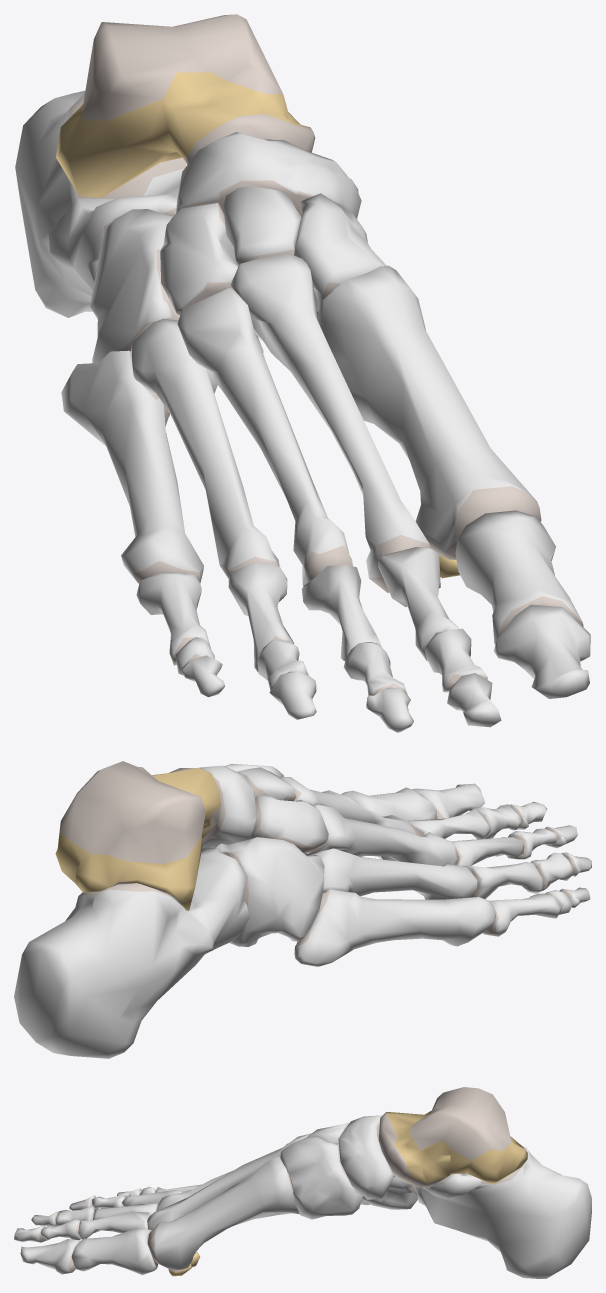
Rendered from foot_R.fbx.
The picture shows the model from 3 angles, top to bottom: view 1: azimuth 30°, elevation 25°; view 2: azimuth 150°, elevation 25°; view 3: azimuth 270°, elevation 25°; orthographic projection. The views are drawn at different scales.
Visible parts, largest first — view 1: Intermediate cuneiform bone.r.001; view 2: Intermediate cuneiform bone.r.001; view 3: Intermediate cuneiform bone.r.001.
Boxes of the visible parts, x1,y1,x2,y2 form: Intermediate cuneiform bone.r.001: (15, 14, 590, 732); Intermediate cuneiform bone.r.001: (14, 761, 591, 1058); Intermediate cuneiform bone.r.001: (14, 1087, 591, 1278).
Size of the model in its own units: 9.36 by 7.62 by 22.86.
